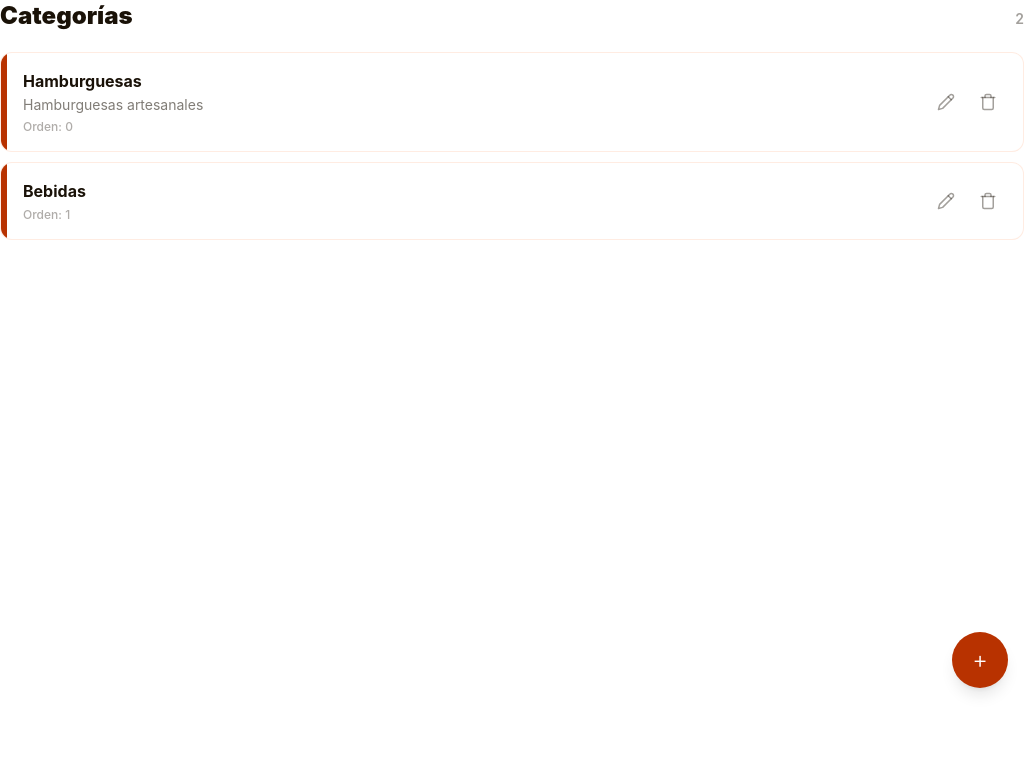
CategoriesPage › opens confirm dialog when delete button is clicked
Expected: the text "Hamburguesas" is shown, x1=23 y1=71 x2=142 y2=91
Click the button named "Eliminar Hamburguesas" at point(988, 102), box x1=969 y1=83 x2=1007 y2=121
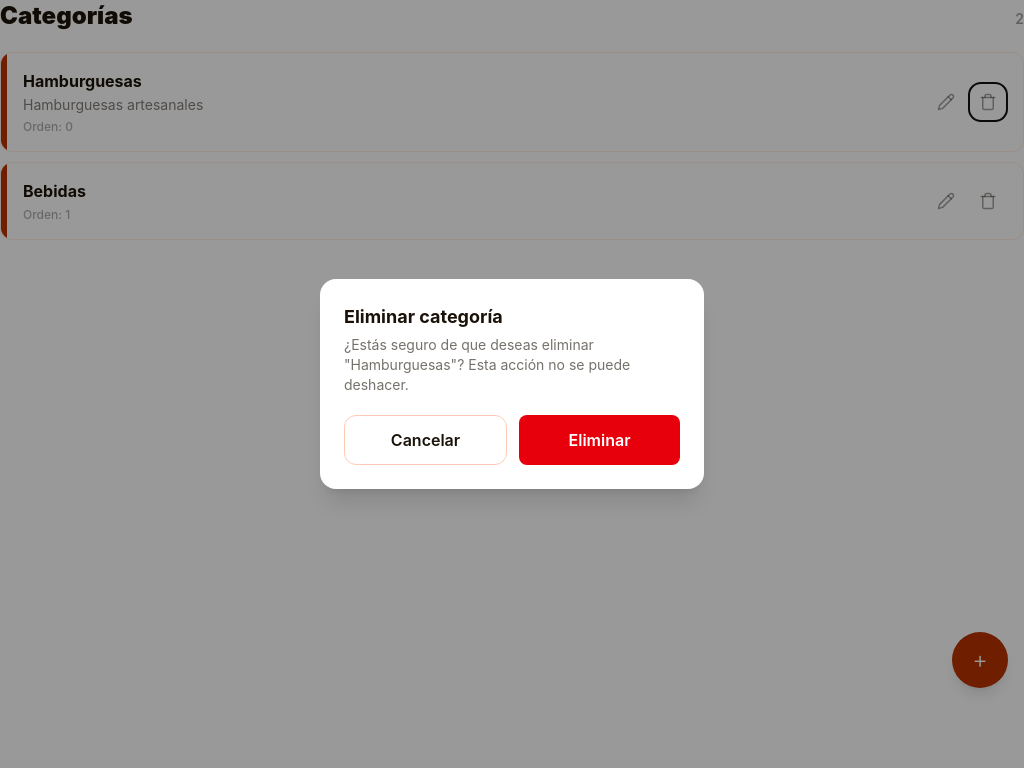
Result: the dialog is shown
Result: the heading "Eliminar categoría" is shown at x1=344 y1=306 x2=503 y2=327
Result: the text "Hamburguesas" is shown at x1=344 y1=336 x2=630 y2=393
